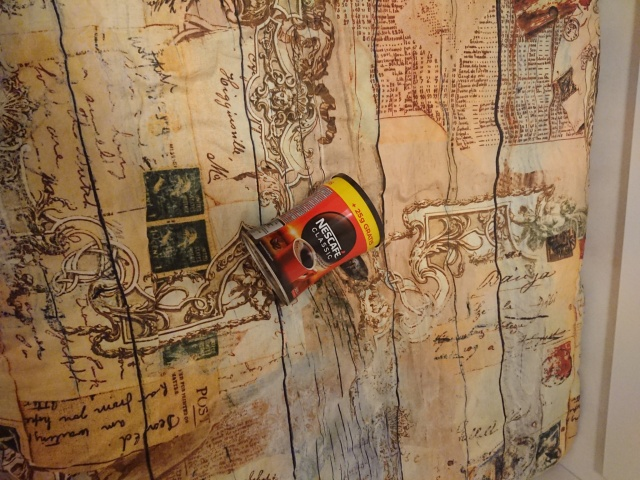Nescafe Classic 225g: (239, 170, 388, 309)
